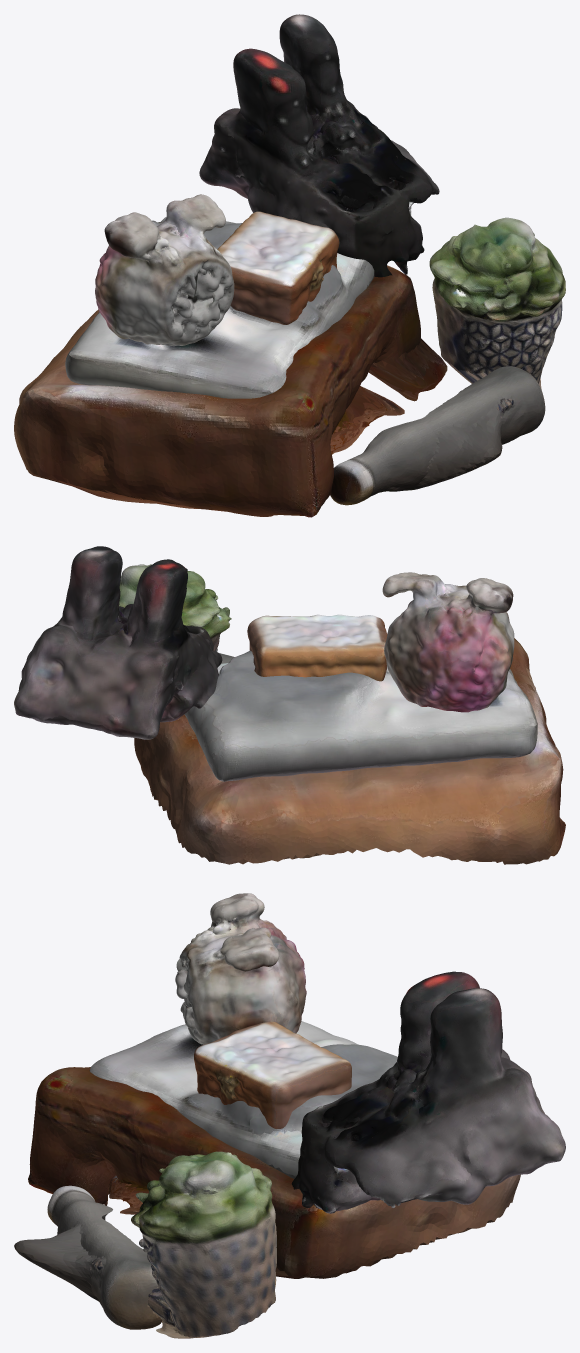
File: gen3dsr_no_bg.glb
The picture shows the model from 3 angles, top to bottom: view 1: azimuth 30°, elevation 25°; view 2: azimuth 150°, elevation 25°; view 3: azimuth 270°, elevation 25°; orthographic projection. The views are drawn at different scales.
Parts seen in each view (by area): view 1: 4.obj, 5.obj, 1.obj, 3.obj, 6.obj, 2.obj, 0.obj; view 2: 4.obj, 1.obj, 5.obj, 6.obj, 0.obj, 3.obj; view 3: 5.obj, 4.obj, 3.obj, 6.obj, 1.obj, 0.obj, 2.obj.
Boxes of the visible parts, x1,y1,x2,y2 form: 4.obj: (14,265,447,517); 5.obj: (199,14,439,277); 1.obj: (65,217,374,398); 3.obj: (429,217,565,418); 6.obj: (95,194,234,346); 2.obj: (330,366,545,505); 0.obj: (217,211,339,324); 4.obj: (134,638,565,864); 1.obj: (184,650,537,781); 5.obj: (14,546,222,739); 6.obj: (382,572,514,712); 0.obj: (247,614,387,681); 3.obj: (119,564,231,651); 5.obj: (291,971,565,1213); 4.obj: (28,1067,520,1278); 3.obj: (90,1151,276,1338); 6.obj: (175,893,306,1044); 1.obj: (89,1021,397,1178); 0.obj: (194,1021,351,1128); 2.obj: (14,1185,162,1329).
Bounding box in the file's own units: 0.7888 × 0.462 × 0.7377.
Materials: 7 (7 with a texture image).
